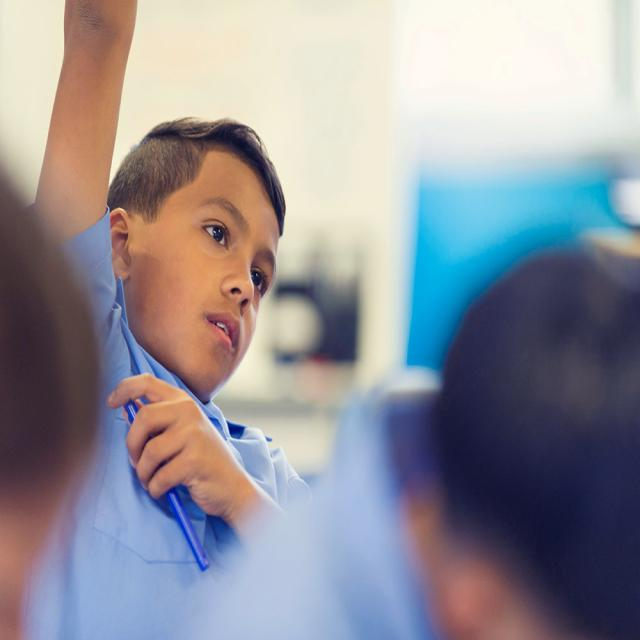child: (38, 0, 312, 640)
